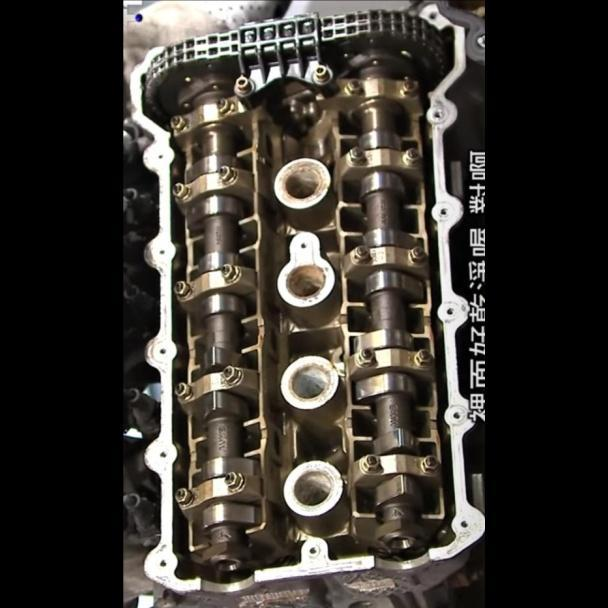hole: (432, 107, 442, 118), (460, 517, 470, 527), (309, 544, 318, 555), (159, 345, 168, 356), (159, 449, 168, 459), (451, 410, 460, 420), (446, 305, 455, 315), (159, 557, 167, 566), (440, 206, 449, 214), (157, 247, 165, 255), (156, 152, 162, 161)
